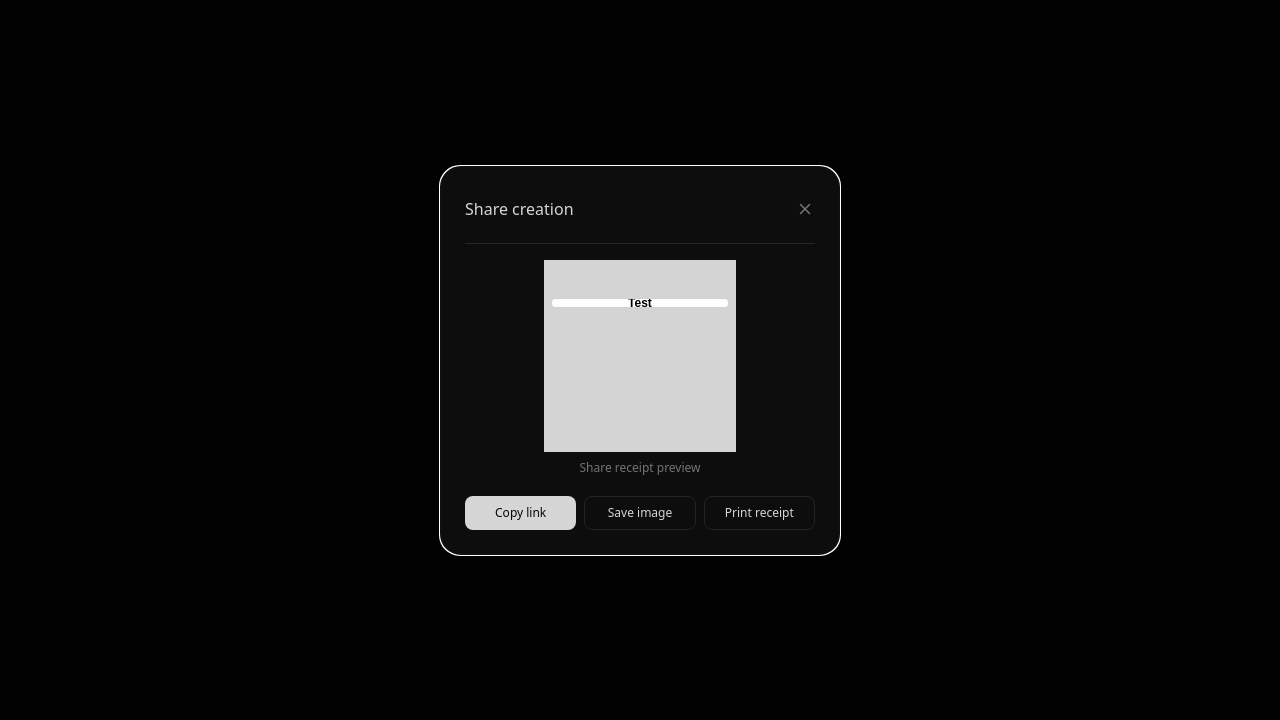
Test: ShareDialog › uses a generic printer name in ordinary connection failure advice
Click the button "Print receipt" at (759, 512), box [704, 496, 815, 530]
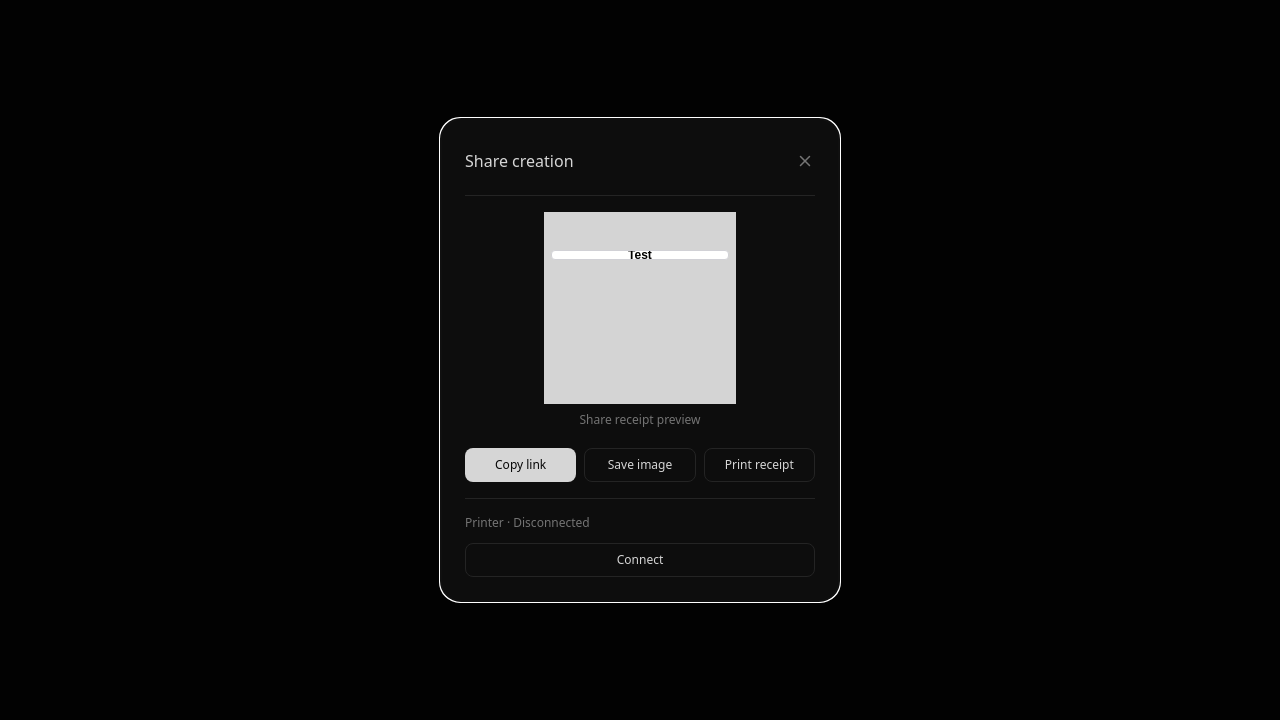
Check: the button "Connect" is shown
Click the button "Connect" at (640, 560), box [465, 543, 815, 577]
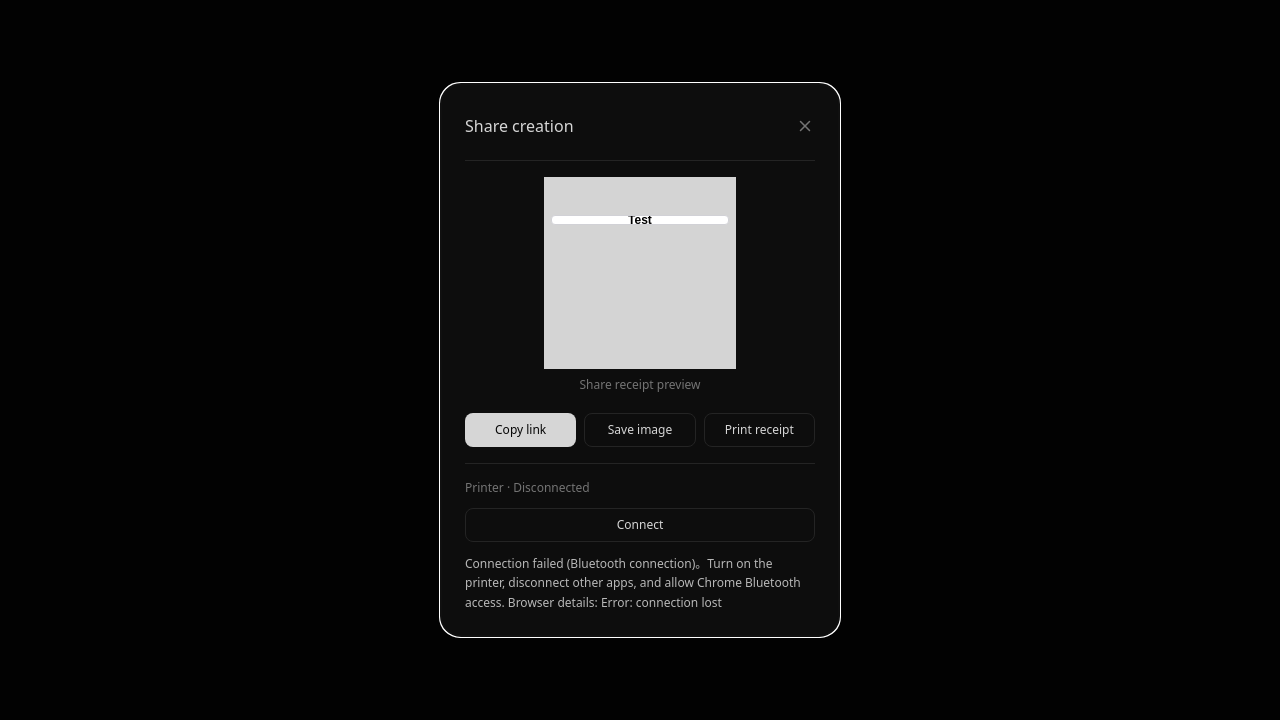
Check: the text "Turn on the printer" is shown, box [465, 555, 801, 611]
